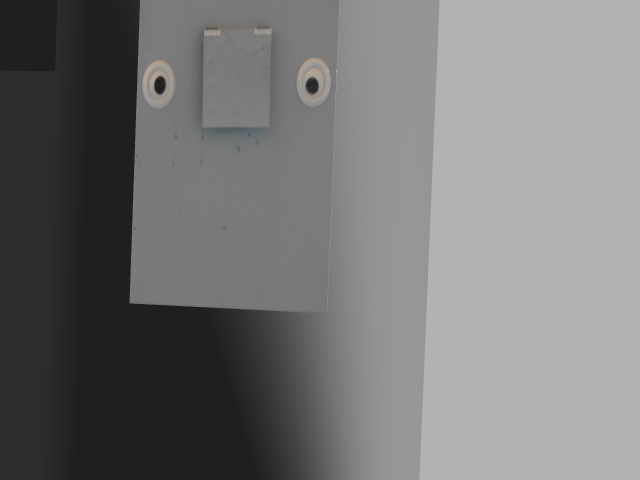facade: (141, 24, 332, 130)
